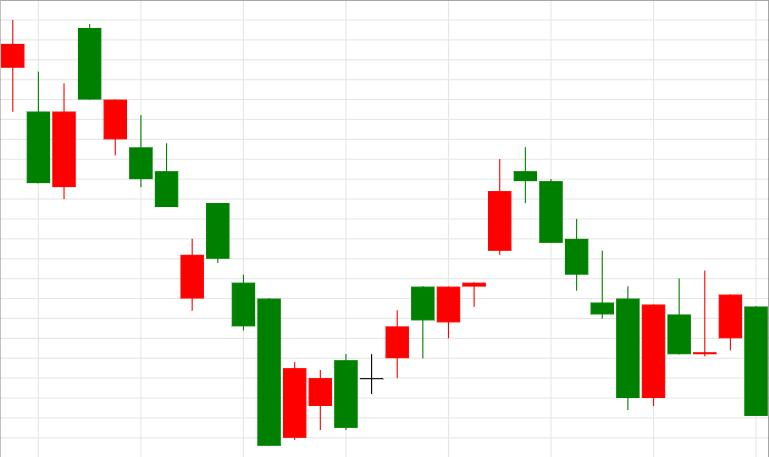evening_star_fall: (360, 147, 563, 395)
